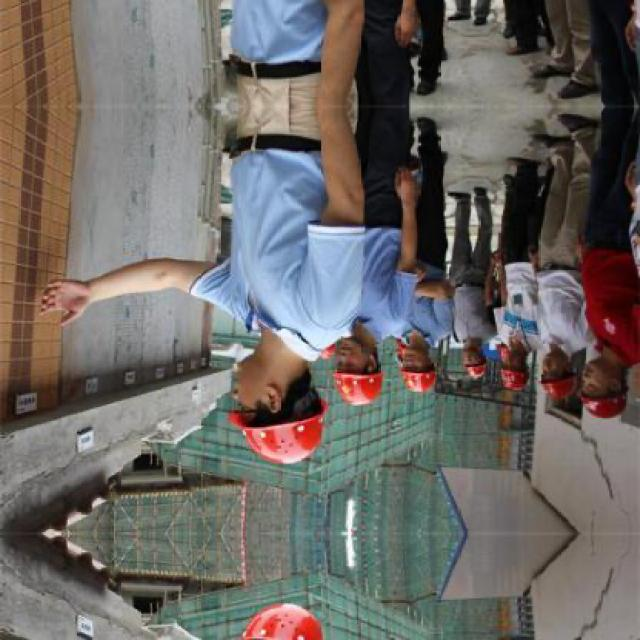con casco: (222, 403, 326, 470), (318, 364, 391, 406), (389, 353, 456, 388)
sin casco: (584, 356, 626, 433)
